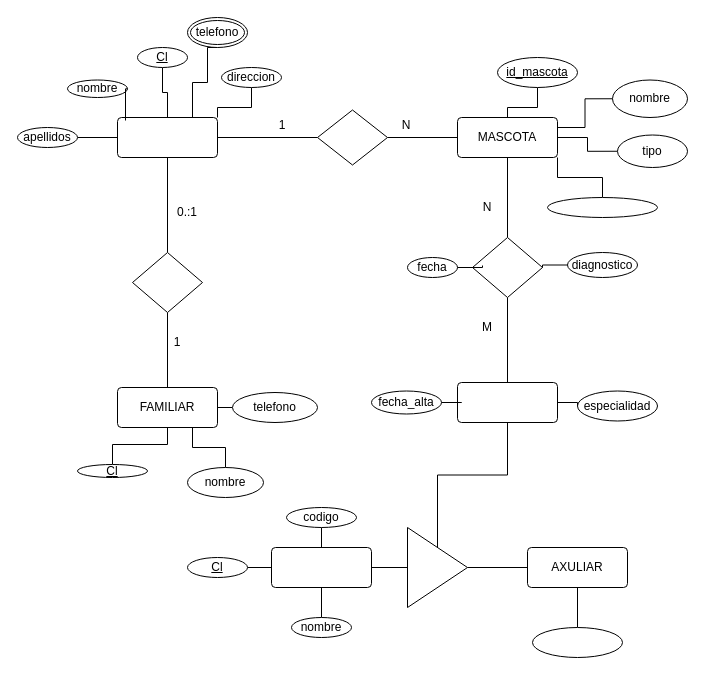
The diagram is 705 pixels wide and 675 high, and some of its shapes have lost their labels. Each missing label, with the centre of its shape:
"base_cotizacion" goes at (x=577, y=642).
"consulta" goes at (x=507, y=267).
"es un" goes at (x=437, y=567).
"fecha_nacimiento" goes at (x=602, y=207).
"Lleva" goes at (x=352, y=137).
"PERSONAL CLINICA" goes at (x=321, y=567).
"PROPIETARIO" goes at (x=167, y=137).
"Tiene" goes at (x=167, y=282).
"VETERINARIO" goes at (x=507, y=402).
